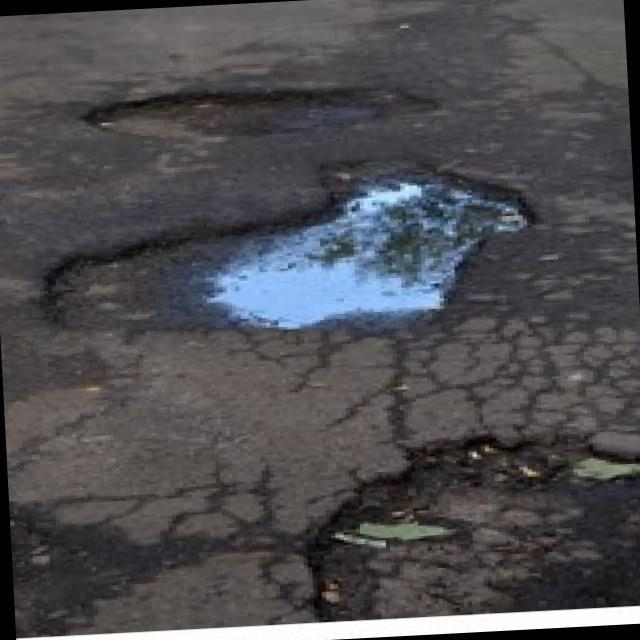Pothole: (26, 148, 544, 348), (284, 422, 640, 624), (84, 77, 448, 149)
